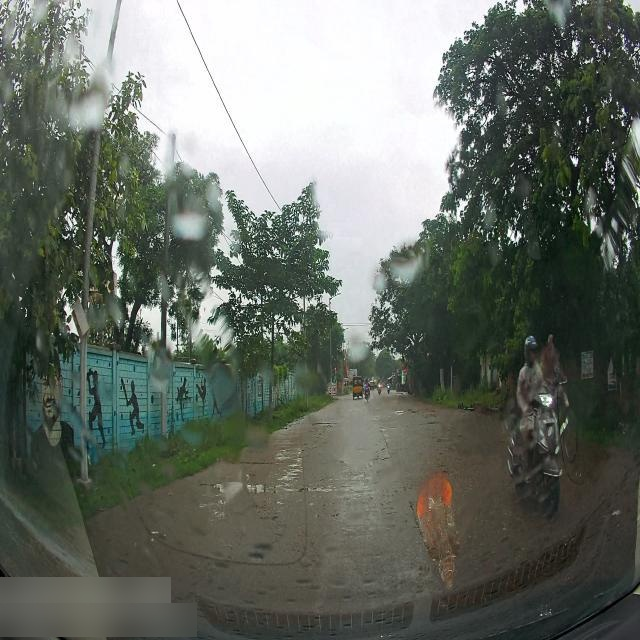pothole: (206, 476, 275, 508), (272, 446, 312, 470), (290, 484, 346, 500), (308, 417, 352, 434), (393, 408, 418, 416)
